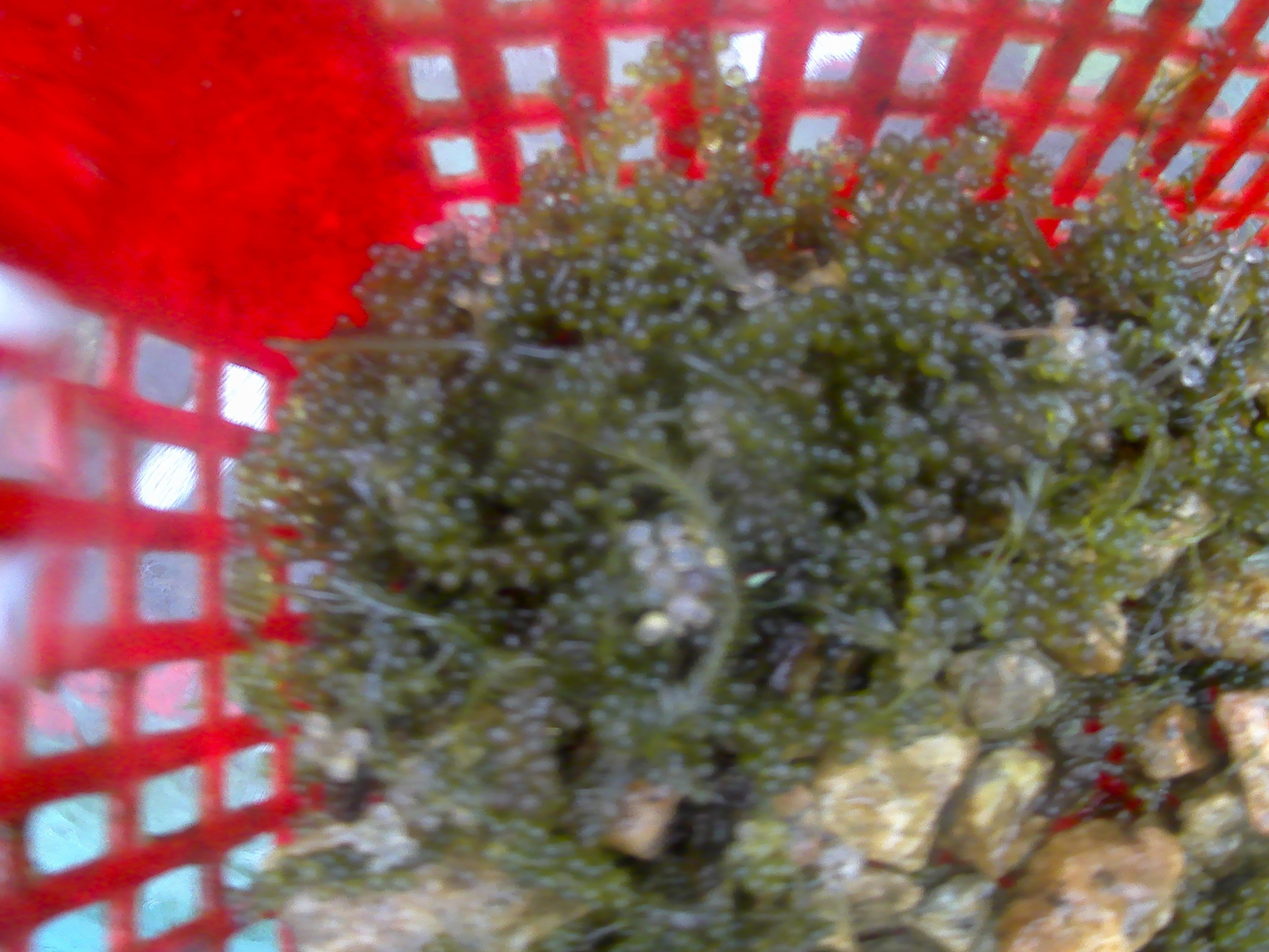Darkening: (499, 744, 525, 771), (1087, 430, 1114, 455), (488, 726, 514, 751), (480, 378, 505, 402), (927, 439, 950, 462), (512, 567, 535, 590), (501, 515, 524, 537), (953, 426, 976, 448), (924, 522, 946, 544), (906, 488, 929, 509), (525, 739, 551, 757), (951, 454, 973, 475), (811, 414, 831, 436), (500, 693, 523, 712), (522, 799, 549, 815), (470, 567, 490, 588), (552, 498, 573, 518), (870, 348, 890, 369), (415, 564, 434, 584), (540, 510, 560, 528), (936, 472, 956, 490), (527, 548, 546, 566), (589, 531, 608, 549), (525, 724, 546, 738), (502, 716, 526, 728), (371, 264, 388, 279), (549, 477, 566, 492)
Harvestable: (817, 693, 845, 723), (918, 351, 947, 379), (573, 483, 600, 509), (494, 437, 521, 463), (895, 328, 922, 354), (905, 590, 932, 616), (414, 540, 438, 564), (442, 540, 466, 564), (884, 503, 908, 527), (411, 516, 435, 540), (984, 617, 1008, 640), (925, 648, 949, 671), (438, 514, 463, 536), (612, 497, 636, 519), (577, 399, 599, 423), (730, 410, 753, 432), (884, 471, 906, 493), (414, 462, 437, 483), (758, 330, 779, 353), (884, 451, 907, 472), (610, 473, 633, 494), (614, 394, 636, 415), (990, 597, 1012, 618), (855, 469, 877, 490), (754, 727, 777, 747), (690, 317, 711, 338), (858, 443, 879, 464), (394, 532, 415, 553), (781, 487, 802, 508), (804, 731, 826, 751), (741, 754, 763, 774), (905, 553, 926, 573), (549, 591, 570, 611), (712, 718, 733, 738), (761, 745, 782, 765), (859, 692, 880, 712), (585, 593, 606, 613), (621, 640, 642, 660), (745, 875, 766, 895), (874, 537, 896, 556), (1085, 528, 1107, 547), (450, 459, 472, 478), (737, 719, 757, 739), (693, 742, 714, 761), (606, 663, 627, 682), (872, 555, 892, 574), (708, 290, 727, 310), (1052, 421, 1071, 441), (871, 663, 891, 682), (610, 719, 630, 738), (573, 611, 594, 629), (694, 761, 715, 779), (589, 379, 608, 398), (862, 322, 881, 341), (647, 428, 667, 446), (601, 693, 621, 711), (787, 347, 807, 365), (589, 708, 608, 726), (1124, 423, 1143, 441), (909, 572, 928, 590), (856, 527, 875, 545), (734, 340, 752, 358), (841, 707, 859, 725), (910, 635, 928, 653), (842, 399, 860, 417), (823, 524, 842, 541), (733, 864, 752, 881), (939, 597, 957, 614), (748, 426, 766, 443), (852, 374, 870, 391), (761, 455, 779, 472), (810, 444, 827, 462), (596, 456, 613, 473), (720, 703, 738, 719), (625, 426, 643, 442), (1255, 419, 1269, 439), (571, 554, 587, 570), (653, 660, 669, 676), (456, 497, 474, 511), (790, 440, 805, 454), (1257, 877, 1269, 893)
Whitening: (633, 611, 669, 646), (627, 520, 652, 545), (753, 268, 777, 290), (677, 548, 696, 573), (1090, 329, 1108, 354), (1182, 363, 1199, 384), (641, 549, 657, 571), (1198, 347, 1216, 366), (1068, 333, 1086, 351), (738, 293, 757, 310), (1226, 233, 1244, 250), (660, 524, 678, 540), (1248, 246, 1263, 264), (1214, 269, 1230, 285), (1188, 339, 1202, 354), (1220, 254, 1234, 269), (1209, 304, 1220, 316)
